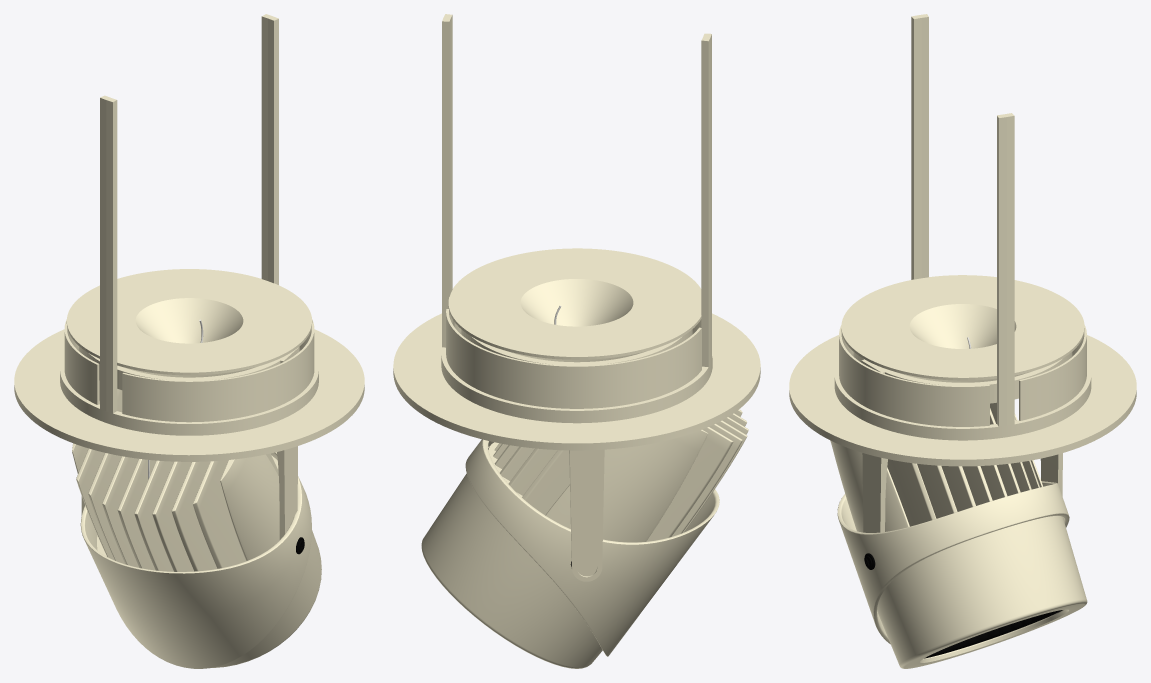
The picture shows the model from 3 angles, left to right: view 1: azimuth 30°, elevation 25°; view 2: azimuth 150°, elevation 25°; view 3: azimuth 270°, elevation 25°; orthographic projection. The views are drawn at different scales.
Parts seen in each view (by area): view 1: Circle040, Circle037, Rectangle0, Circle038, Circle039; view 2: Circle040, Circle037, Rectangle0, Circle039, Circle038; view 3: Circle040, Circle037, Circle039, Circle038, Rectangle0, Line048.
Part boxes in pixels (x1,y1,x2,y2): Circle040: (14,14,364,461); Circle037: (66,269,312,539); Rectangle0: (72,389,279,571); Circle038: (80,452,311,668); Circle039: (212,530,321,667); Circle040: (393,14,760,450); Circle037: (448,248,701,581); Rectangle0: (488,409,748,542); Circle039: (421,473,602,668); Circle038: (465,439,719,656); Circle040: (789,14,1136,466); Circle037: (841,275,1084,532); Circle039: (877,516,1087,668); Circle038: (837,481,1069,644); Rectangle0: (830,402,1042,532); Line048: (924,610,1062,658).
Bounding box in the file's own units: 9.45 × 17.88 × 9.45.
